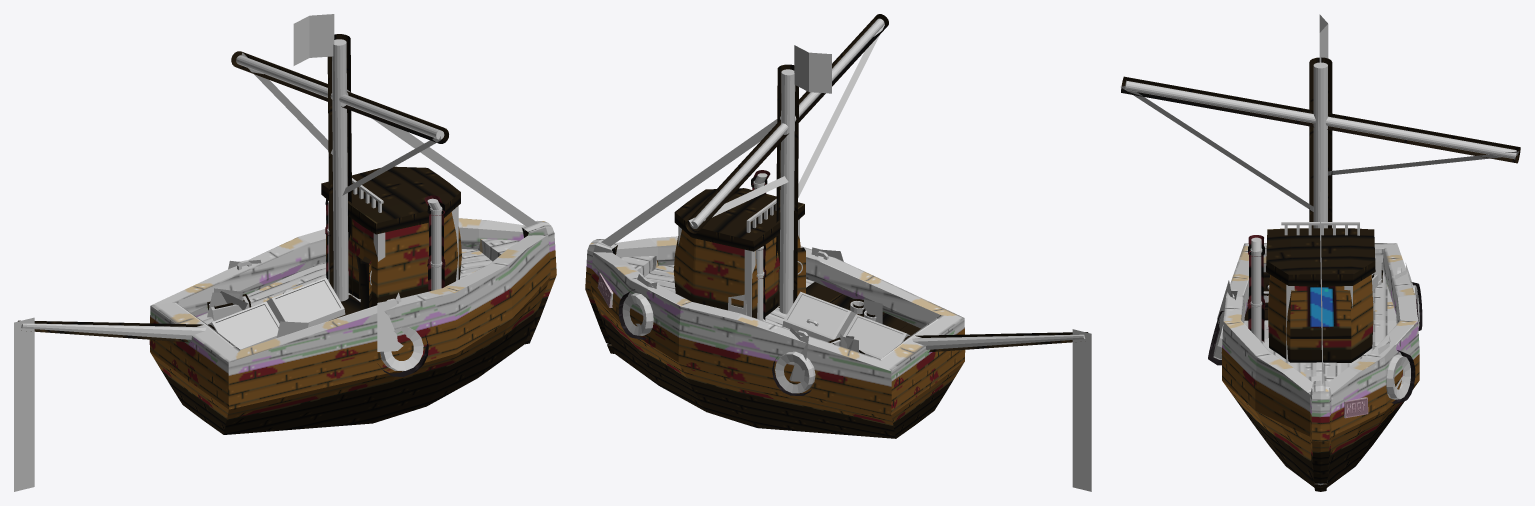
Rendered from boat.obj.
3 views of the same model, side by side, from view 1: azimuth 30°, elevation 25°; view 2: azimuth 150°, elevation 25°; view 3: azimuth 270°, elevation 25° (orthographic). The views are drawn at different scales.
Visible parts, largest first — view 1: Cube; view 2: Cube; view 3: Cube.
Boxes of the visible parts, x1,y1,x2,y2 form: Cube: [14, 14, 556, 491]; Cube: [585, 14, 1091, 491]; Cube: [1121, 14, 1520, 491].
Size of the model in its own units: 13.41 by 9.6 by 8.84.
